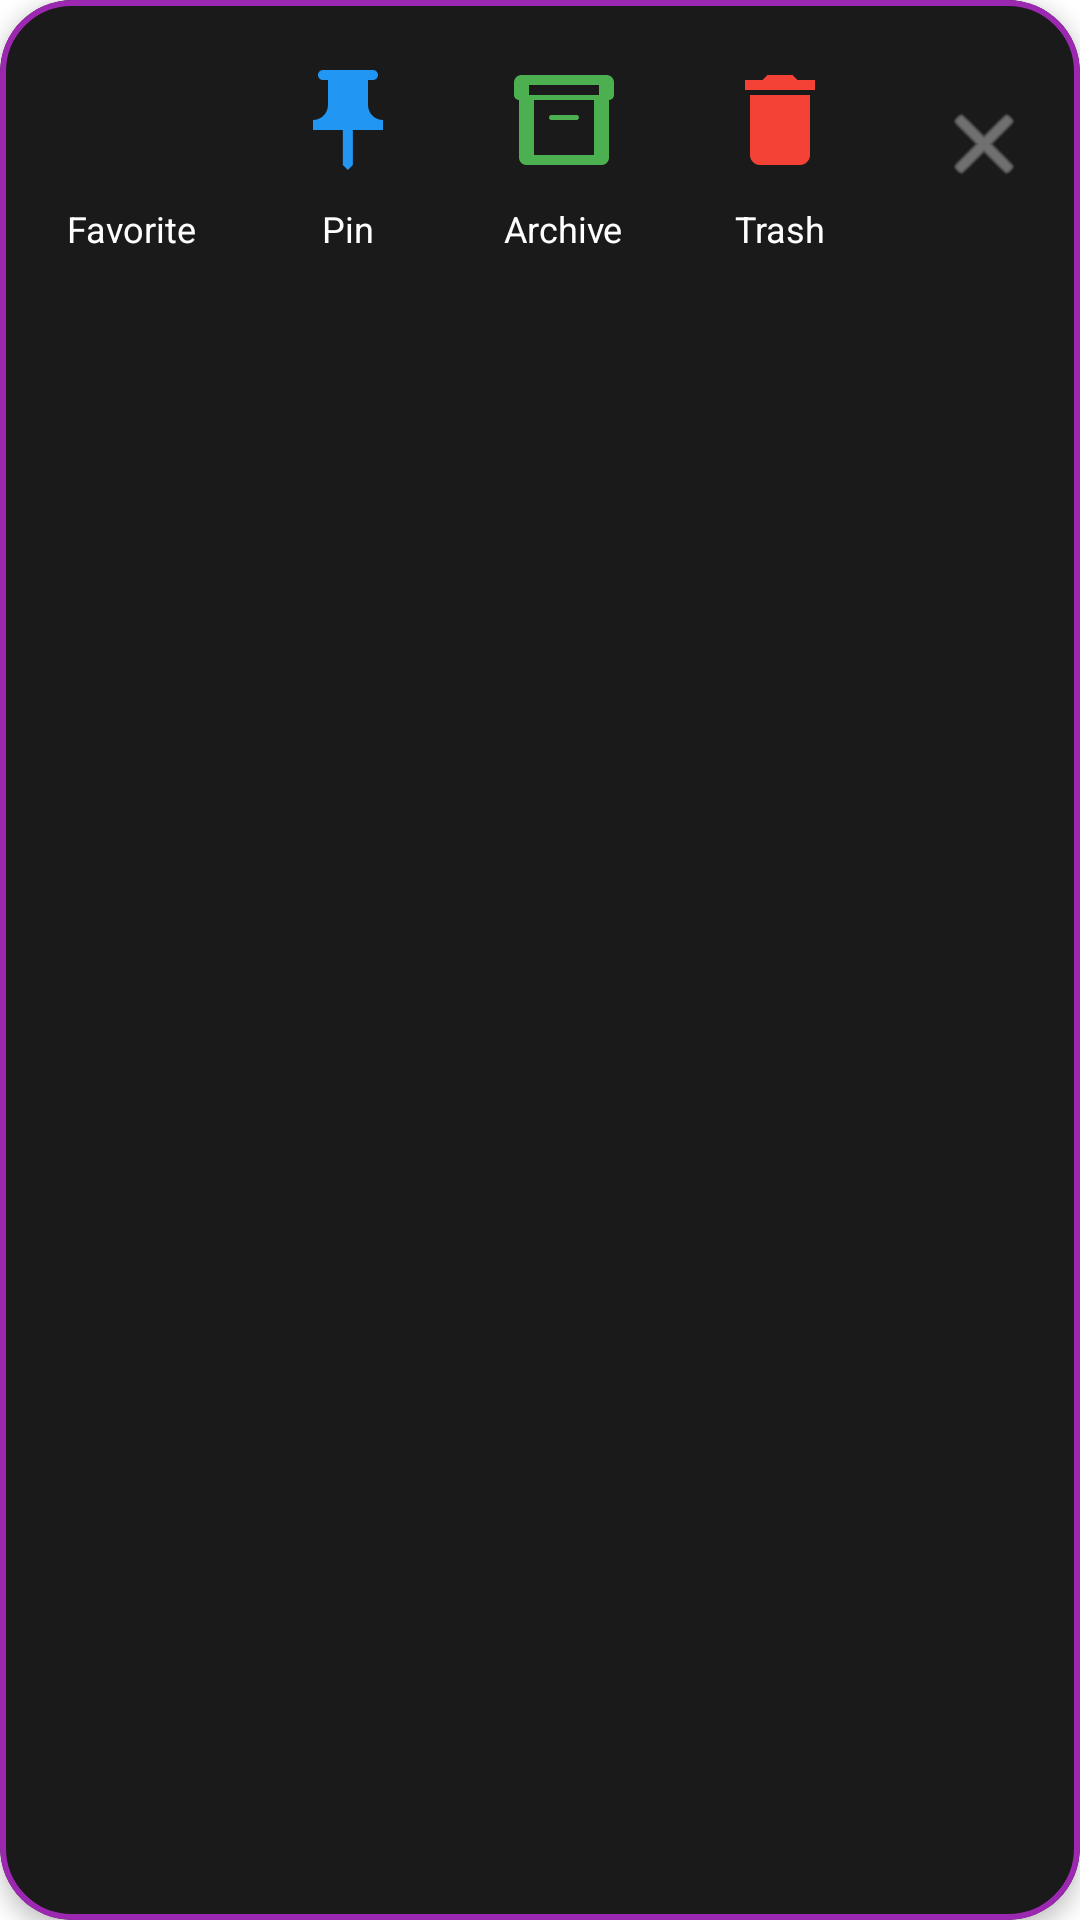

Screen size 1080x1920. Icon name, then its center in pixels as [x,y]:
Close: [984,144]
